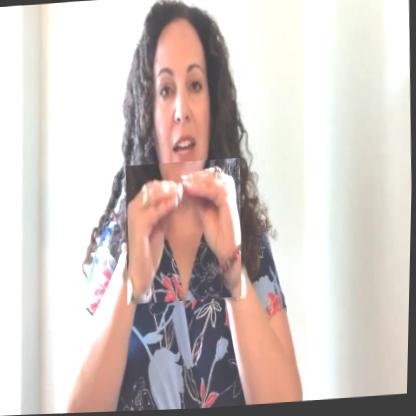Fix: (124, 159, 246, 306)
